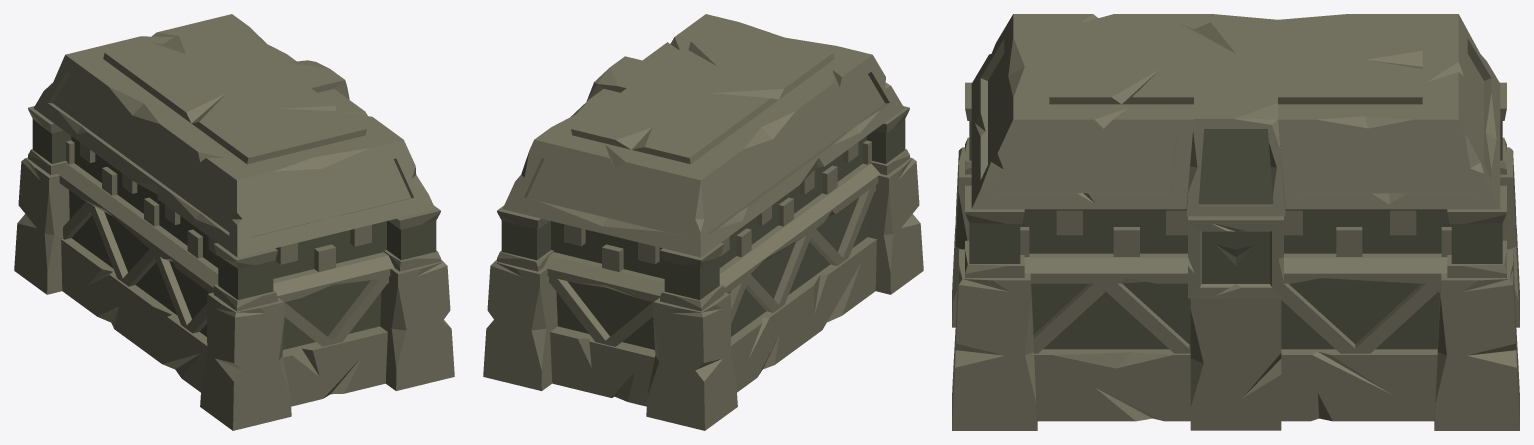
The model's file is chest.glb.
The picture shows the model from 3 angles, left to right: view 1: azimuth 30°, elevation 25°; view 2: azimuth 150°, elevation 25°; view 3: azimuth 270°, elevation 25°; orthographic projection. The views are drawn at different scales.
Visible parts, largest first — view 1: stone chest; view 2: stone chest; view 3: stone chest.
Boxes of the visible parts, <box> form: stone chest: <box>14,14,454,430</box>; stone chest: <box>483,14,923,430</box>; stone chest: <box>952,14,1519,430</box>.
Bounding box in the file's own units: 0.9498 × 0.9429 × 1.61.
